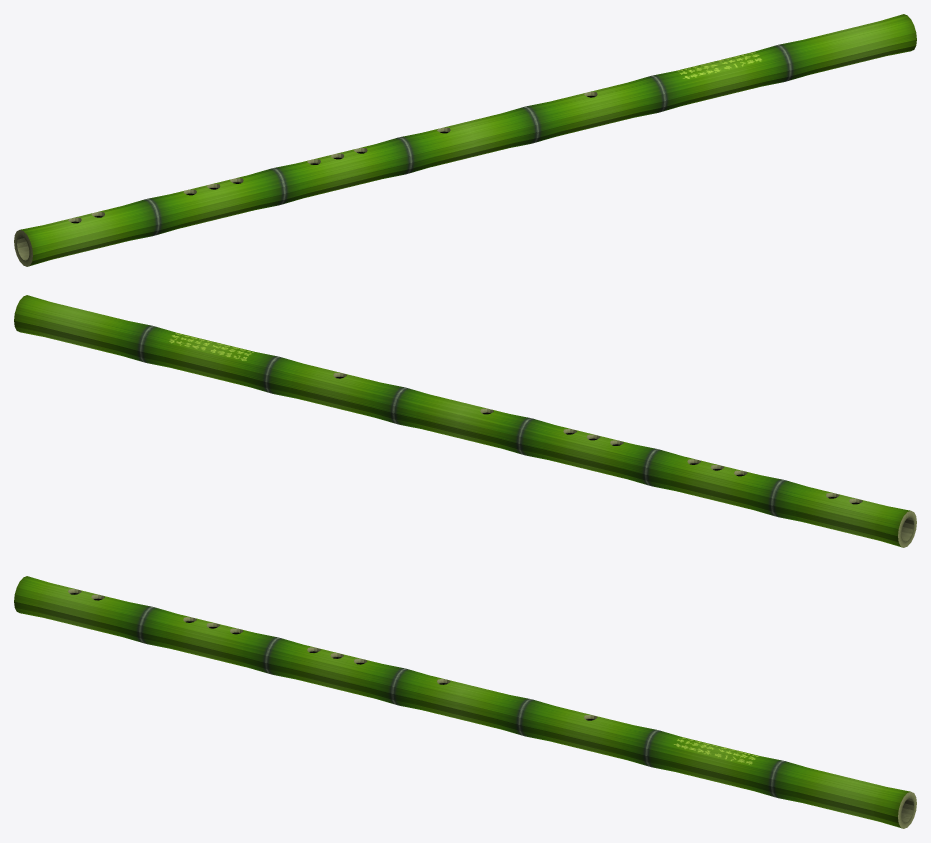
File: Dizi_skinned.dae
3 renders of one model, top to bottom at view 1: azimuth 30°, elevation 25°; view 2: azimuth 150°, elevation 25°; view 3: azimuth 330°, elevation 25°, orthographic.
Parts seen in each view (by area): view 1: Dizi_001; view 2: Dizi_001; view 3: Dizi_001.
Part boxes in pixels (left/top/right/bottom): Dizi_001: left=14, top=14, right=916, bottom=266; Dizi_001: left=14, top=295, right=916, bottom=547; Dizi_001: left=14, top=576, right=916, bottom=828.
Bounding box in the file's own units: 16.14 × 0.603 × 0.603.
Materials: 1 (1 with a texture image).
